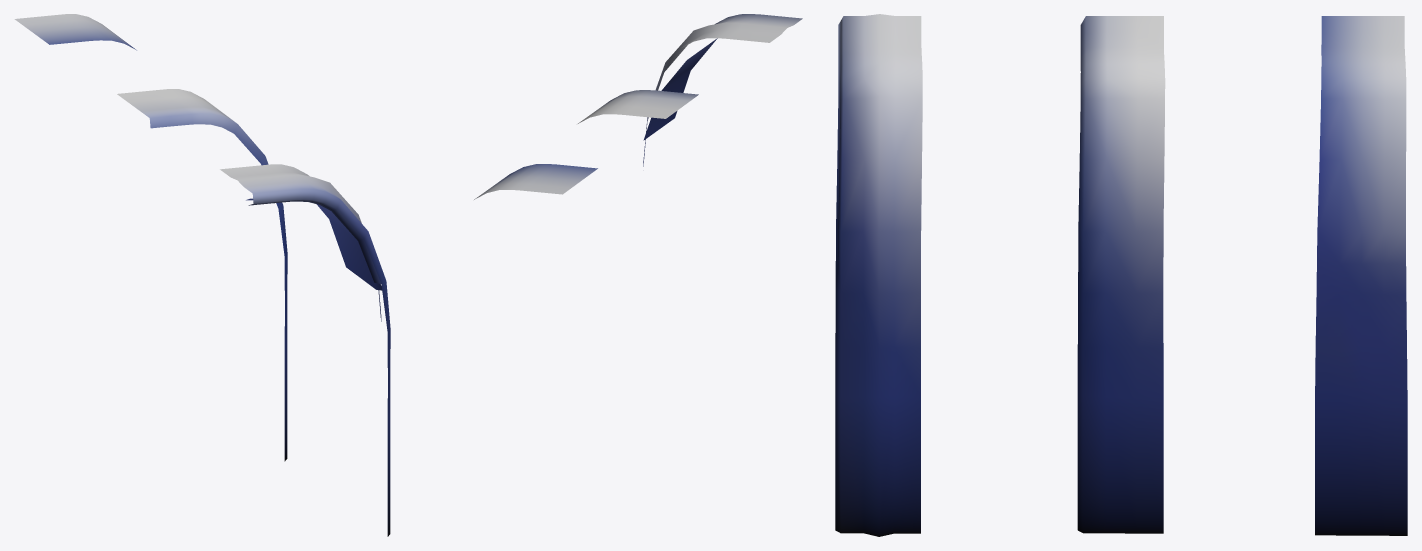
The model's file is 07SandfallLOD.gltf.
The picture shows the model from 3 angles, left to right: view 1: azimuth 30°, elevation 25°; view 2: azimuth 150°, elevation 25°; view 3: azimuth 270°, elevation 25°; orthographic projection. The views are drawn at different scales.
Parts seen in each view (by area): view 1: stg010_sandfall_18_Mesh_0008, stg010_sandfall_18_Mesh_0007; view 2: stg010_sandfall_18_Mesh_0008, stg010_sandfall_18_Mesh_0007; view 3: stg010_sandfall_18_Mesh_0008.
Part boxes in pixels (x1=…): stg010_sandfall_18_Mesh_0008: x1=14, y1=14, x2=390, y2=536; stg010_sandfall_18_Mesh_0007: x1=246, y1=198, x2=382, y2=290; stg010_sandfall_18_Mesh_0008: x1=474, y1=14, x2=802, y2=199; stg010_sandfall_18_Mesh_0007: x1=643, y1=38, x2=717, y2=140; stg010_sandfall_18_Mesh_0008: x1=835, y1=14, x2=1407, y2=536.
Bounding box in the file's own units: 33.38 × 80.74 × 94.91.
